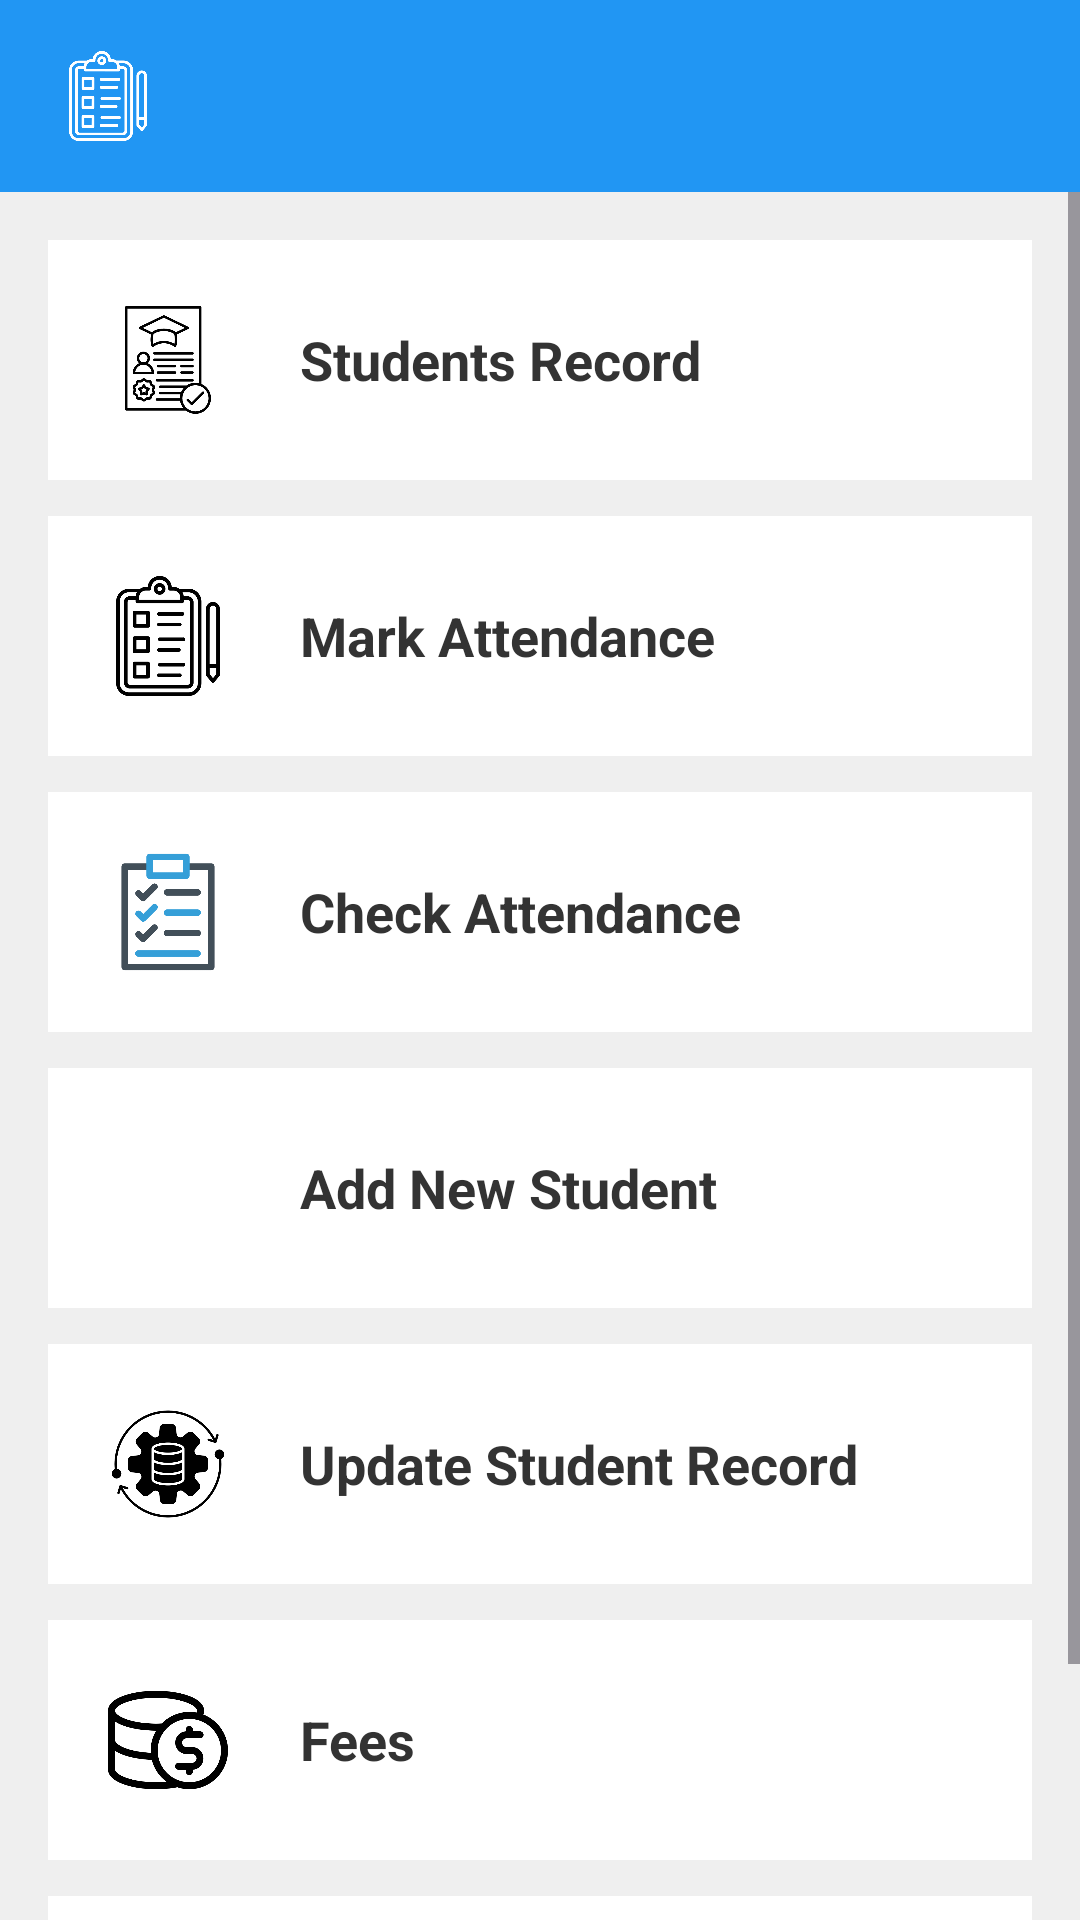

Named icons in this screenshot (1080px×1920px) and their centers, [x,y]:
App Icon: [108,96]
marked attendance: [168,912]
student record: [168,360]
